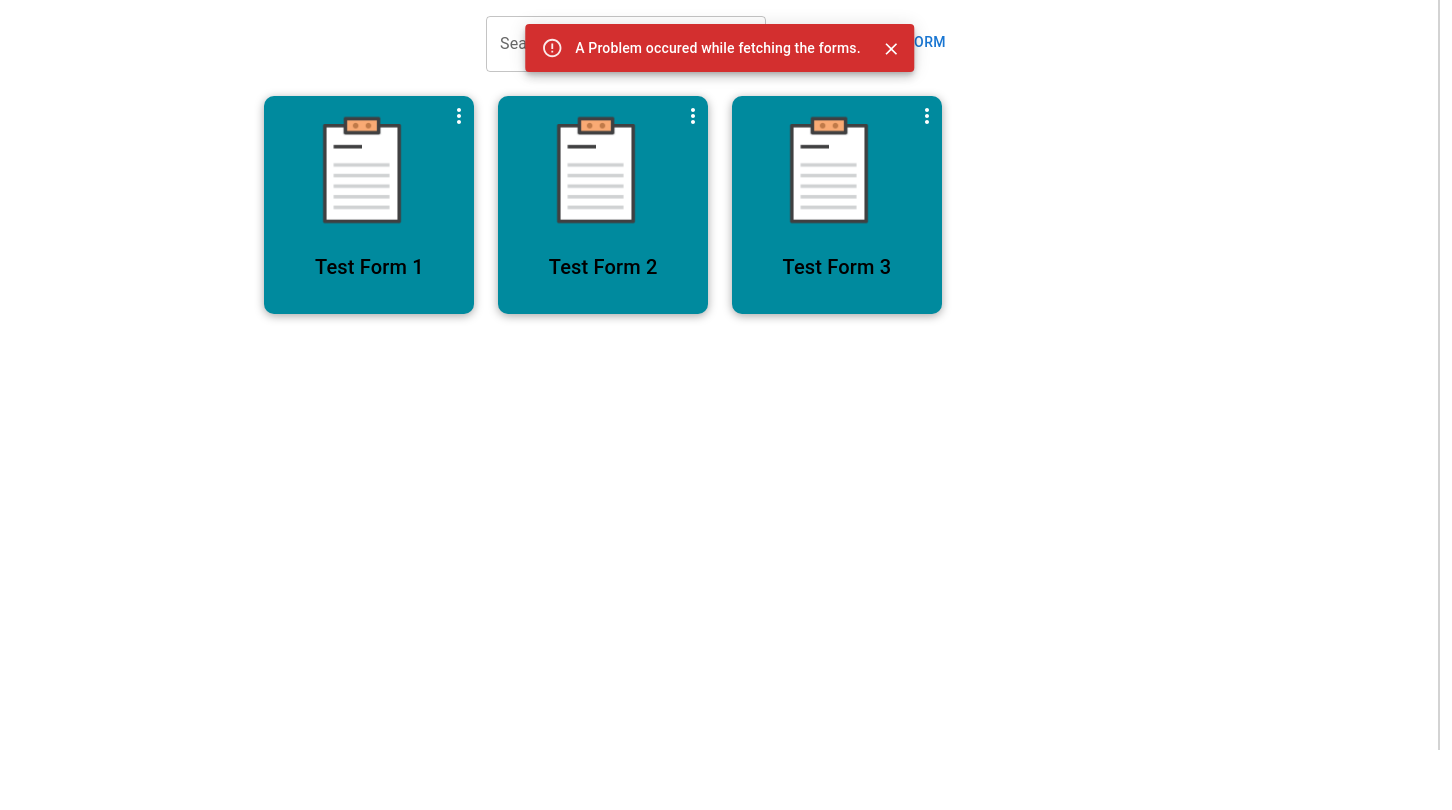
Test: Formslist component › when a form is clicked, the versions of that form should be displayed
The width and height of the screenshot is (1452, 810).
Click the element with test id "form1": x=352, y=166 [264, 96, 439, 235]
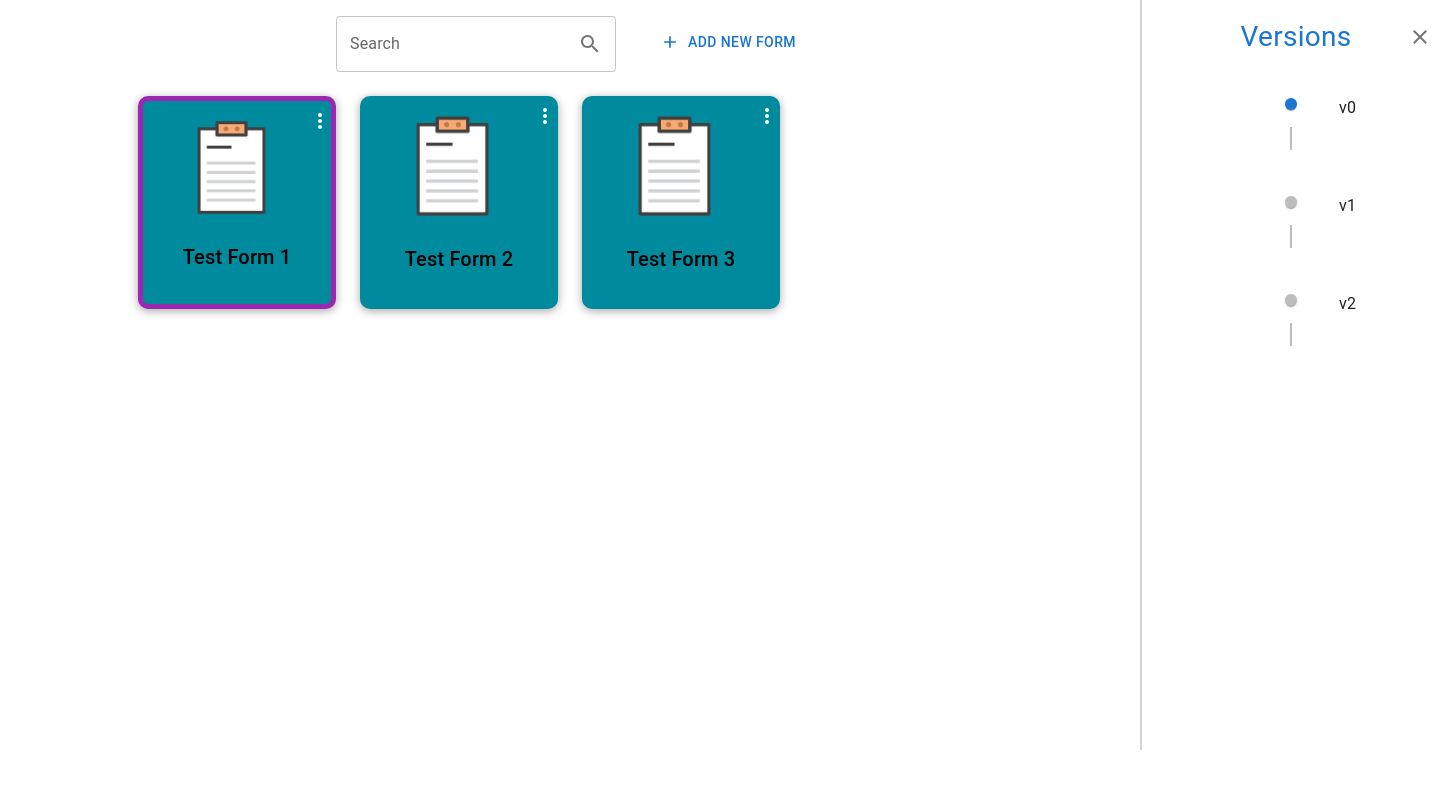
Check: the text "Versions" is shown, box [1241, 20, 1351, 53]
# on clicking close icon, versions should not be displayed
Click the button with test id "versions-close": x=1420, y=37 [1400, 16, 1440, 58]
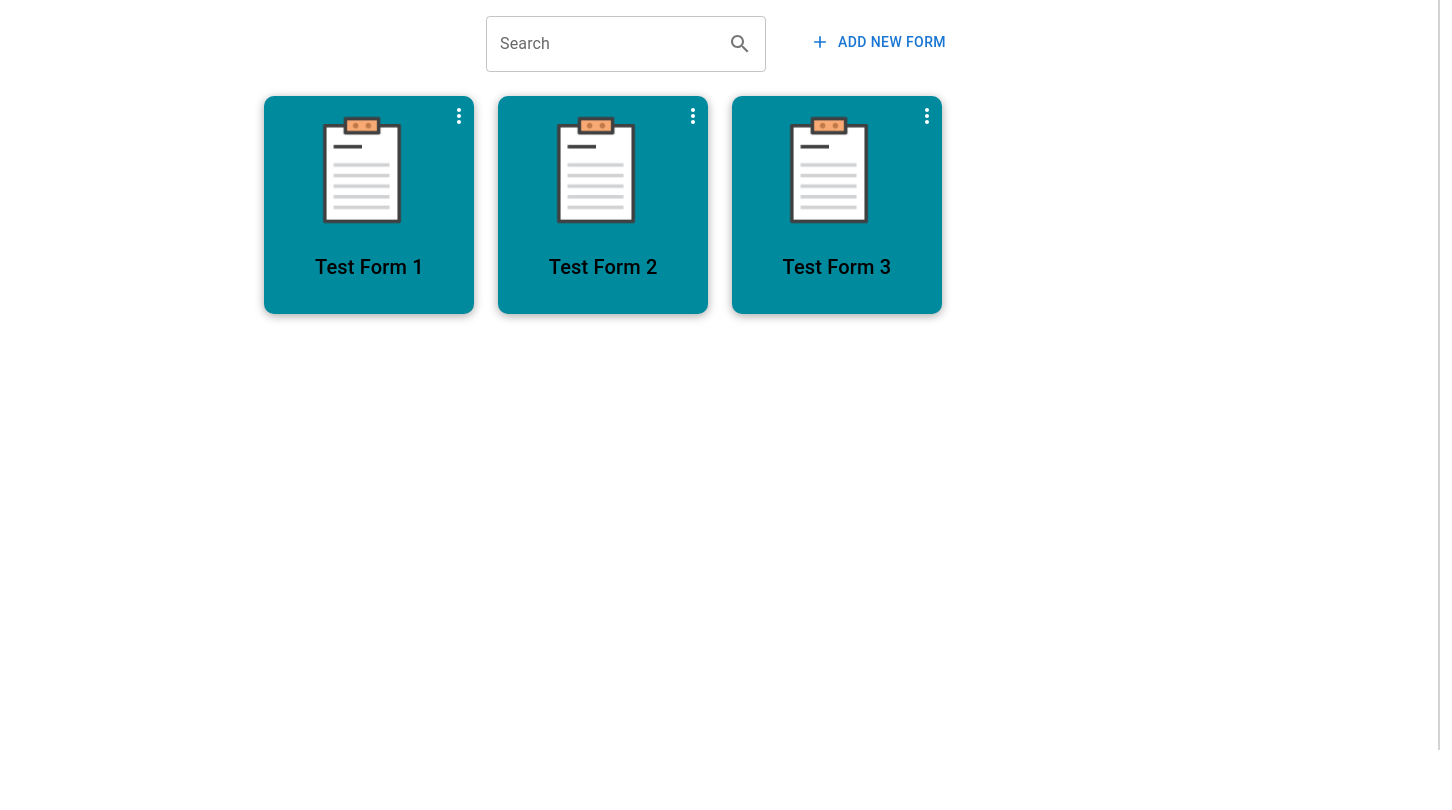
Check: the text "Versions" is gone
# if a form with no versions is clicked, no versions should be displayed
Click the element with test id "form3": x=819, y=166 [732, 96, 907, 235]
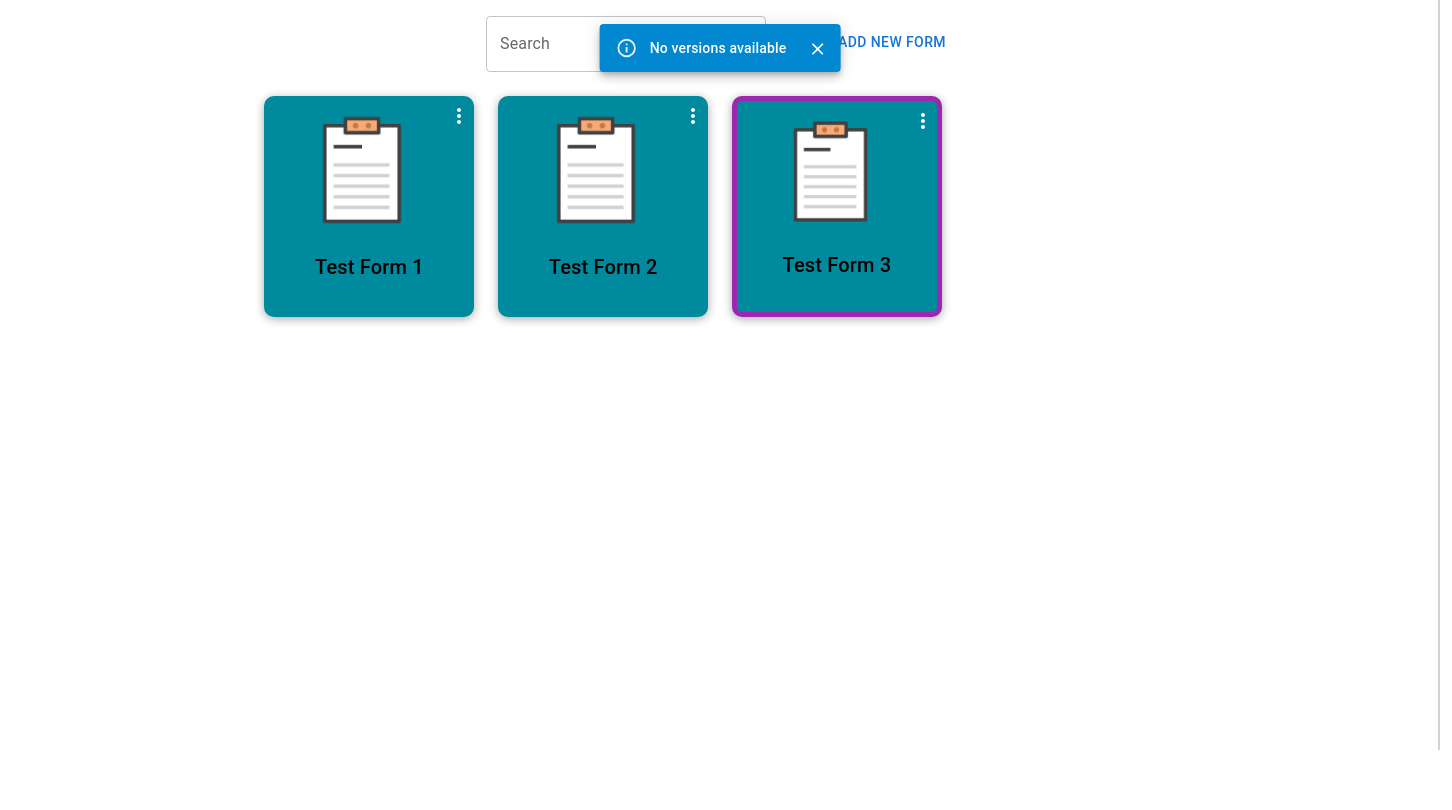
Check: the text "No versions available" is shown, box [650, 40, 786, 56]
